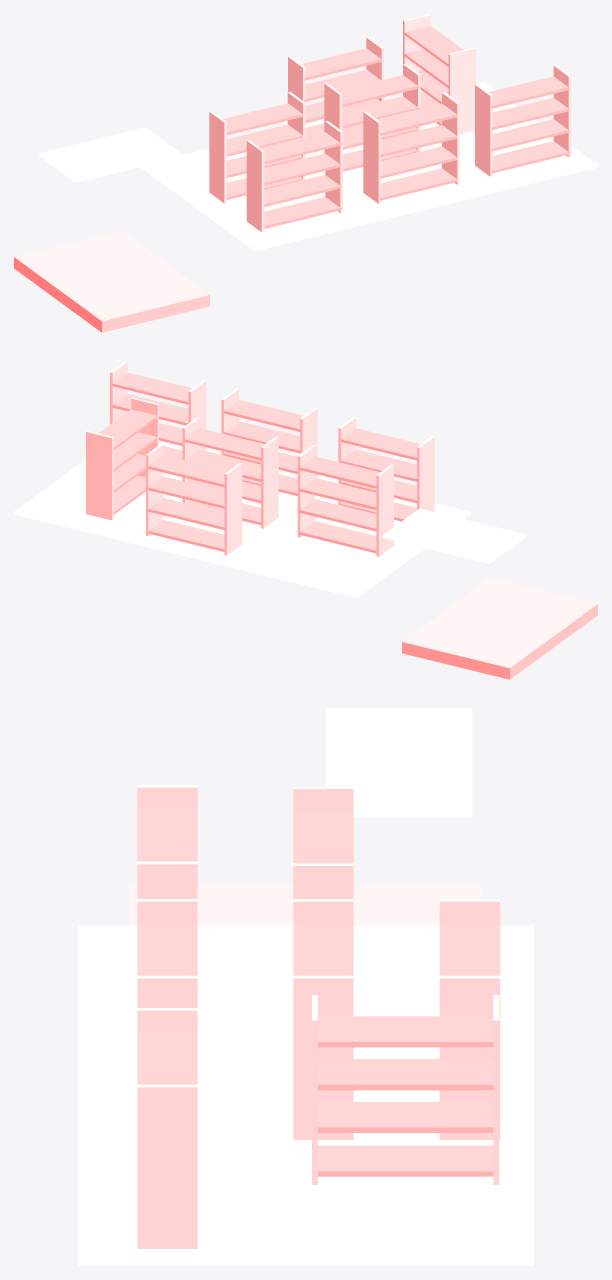
3 renders of one model, top to bottom at view 1: azimuth 30°, elevation 25°; view 2: azimuth 150°, elevation 25°; view 3: azimuth 270°, elevation 25°, orthographic. The views are drawn at different scales.
Visible parts, largest first — view 1: Box (×3), Column (×14), Bin-3 (×18), Bin-2 (×16); view 2: Box (×3), Column (×14), Bin-3 (×14), Bin-2 (×13), Bin-1; view 3: Box (×3), Column (×14), Bin-2 (×10), Bin-1 (×10), Bin-3 (×4).
Boxes of the visible parts, x1,y1,x2,y2 form: Box (×3): [14, 81, 597, 332]; Column (×14): [209, 14, 571, 232]; Bin-3 (×18): [263, 26, 569, 216]; Bin-2 (×16): [237, 36, 543, 222]; Box (×3): [14, 440, 597, 679]; Column (×14): [86, 361, 434, 556]; Bin-3 (×14): [111, 372, 380, 540]; Bin-2 (×13): [102, 378, 406, 547]; Bin-1: [117, 409, 157, 428]; Box (×3): [78, 708, 533, 1265]; Column (×14): [137, 785, 500, 1248]; Bin-2 (×10): [137, 833, 500, 1176]; Bin-1 (×10): [137, 809, 500, 1176]; Bin-3 (×4): [435, 1016, 496, 1176].
Size of the model in its own units: 18.44 by 5.43 by 7.54.
